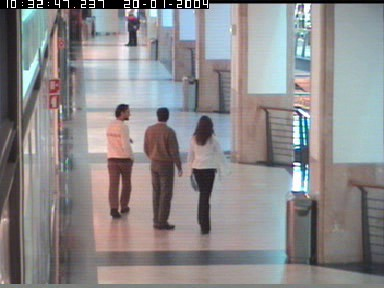person: (185, 114, 232, 235), (143, 106, 183, 229), (106, 103, 134, 219), (125, 10, 140, 46)
